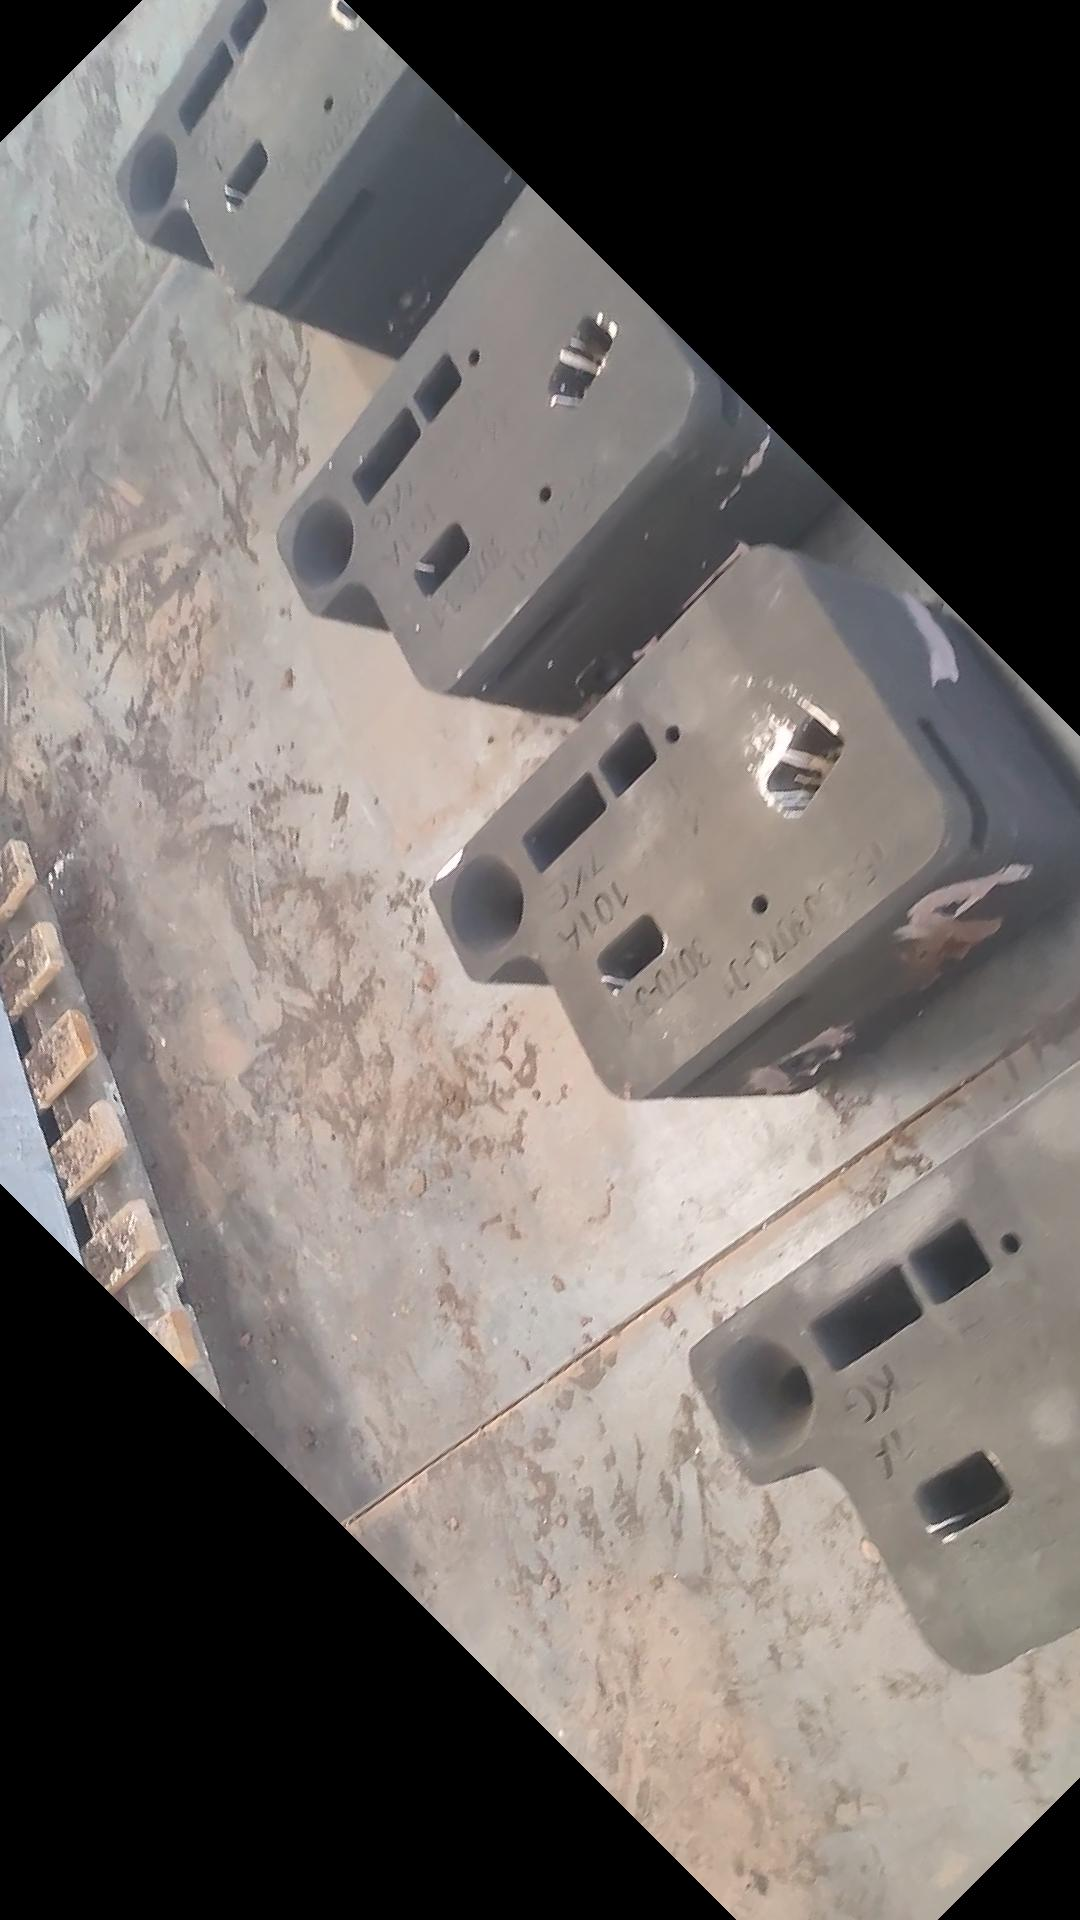pouring hole: (713, 1335, 814, 1460), (448, 855, 524, 953), (290, 496, 353, 587), (128, 132, 178, 215)
